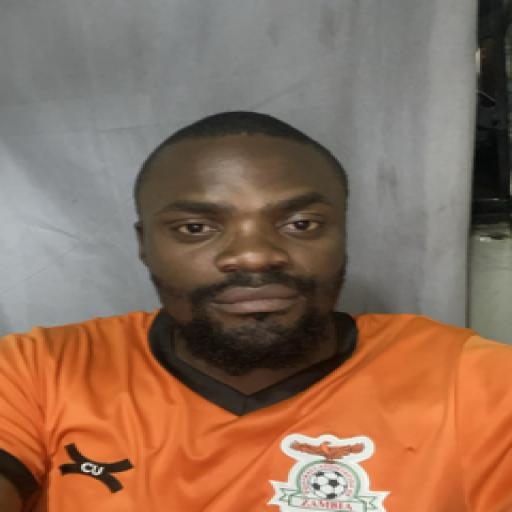JEANLUC: (126, 108, 346, 373)
